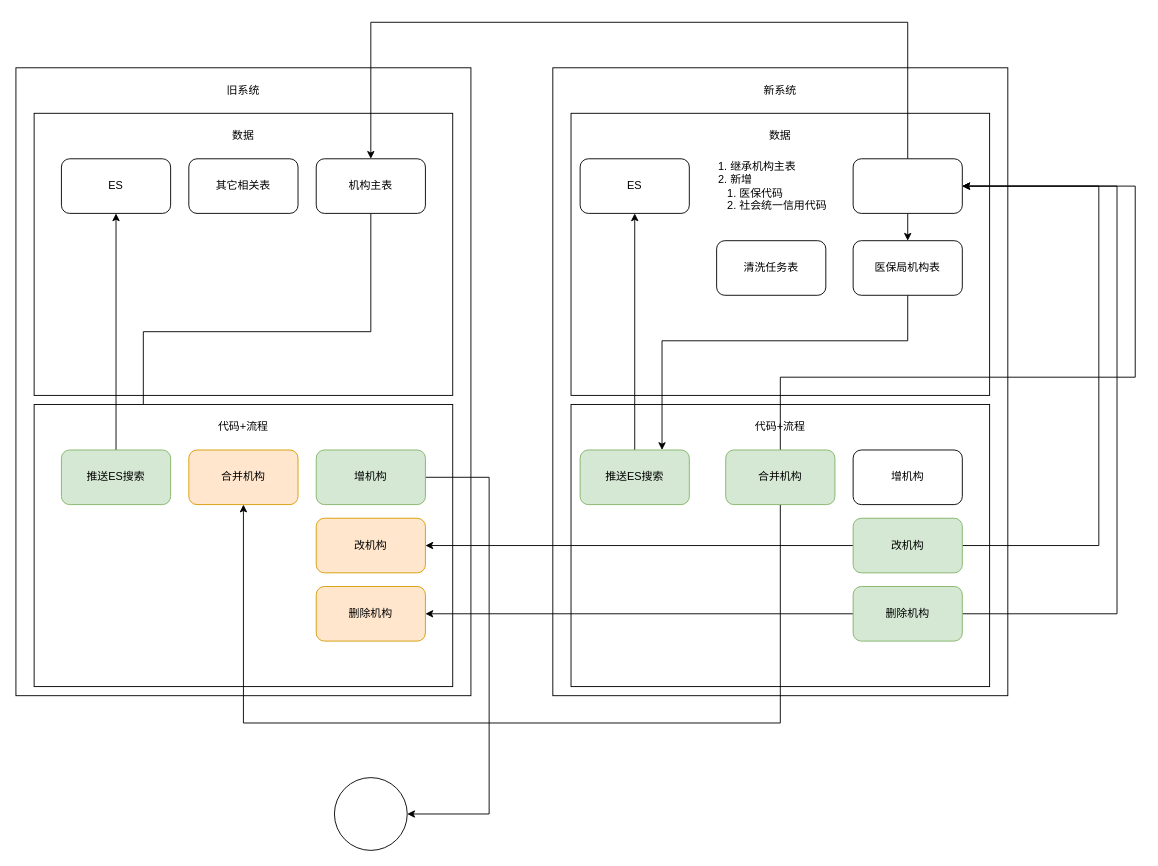
Some shapes in this 1158 by 866 pixel diagram are drawn without their labels. Here are the shapes that lost their labels. From the top down, the centre of each, then its label:
At pixel 907 185: "新机构主表".
At pixel 370 813: "业务人员".
